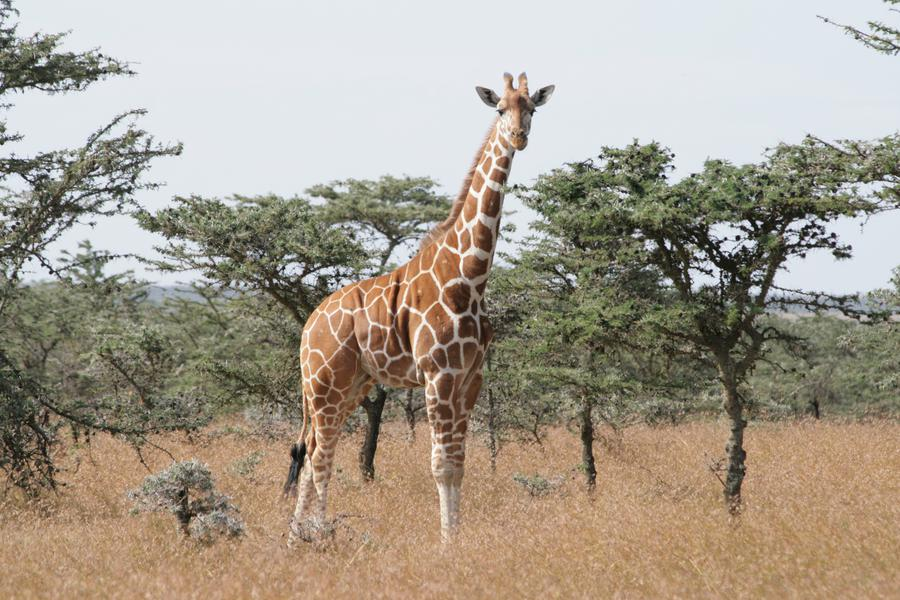giraffe: (302, 267, 473, 413)
